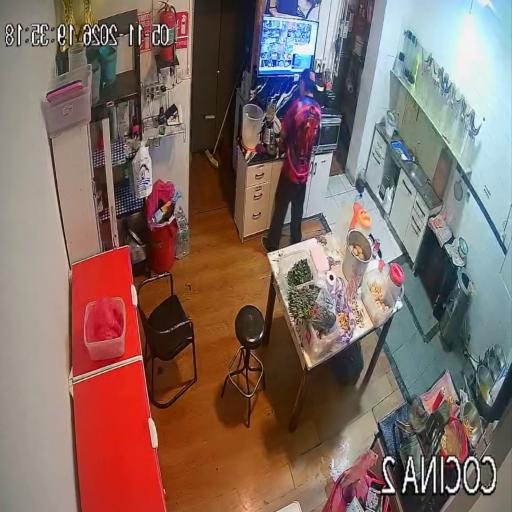Balde: (242, 103, 263, 150)
Envase Ketchup: (432, 388, 446, 411)
Envase Llajua: (447, 396, 455, 404)
Jarra1: (385, 263, 405, 301)
Jarra2: (355, 210, 371, 235)
Jarra3: (334, 201, 353, 248)
Microondas: (315, 109, 341, 154)
Persona1: (262, 69, 321, 251)
Taper: (275, 247, 318, 297)
Taper2: (301, 322, 341, 366)
Taper3: (362, 270, 394, 324)
Taper4: (84, 297, 126, 360)
